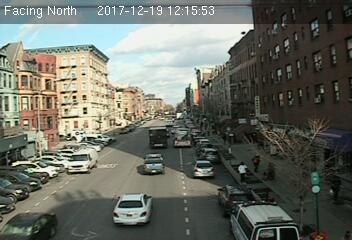car: (111, 190, 154, 225), (218, 184, 254, 213), (142, 152, 165, 177), (193, 160, 214, 181), (201, 147, 217, 163)
pedestrian: (238, 160, 248, 184)
police: (227, 198, 300, 240)
truck: (67, 147, 98, 173), (173, 126, 192, 146)
ups: (147, 126, 169, 149)
